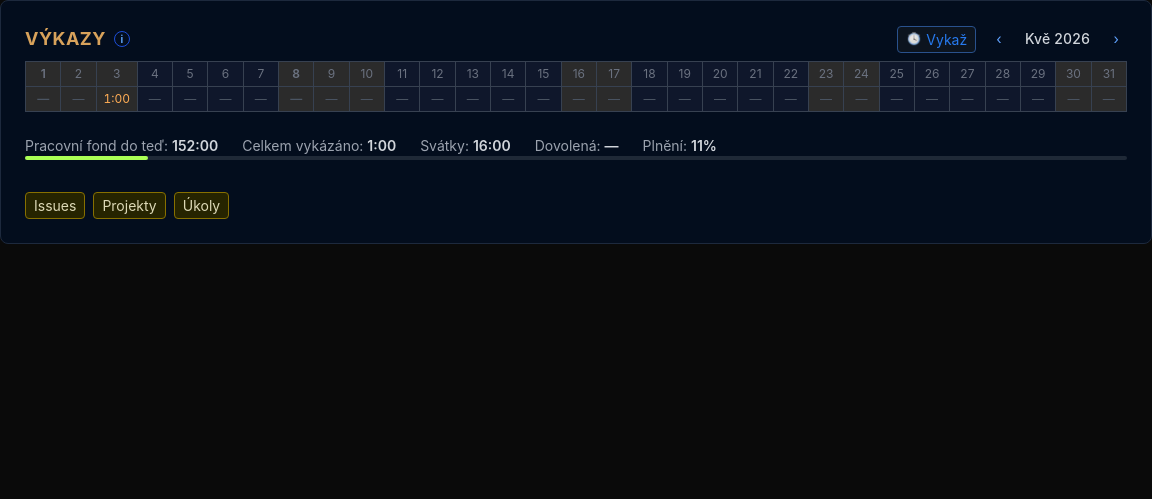
Test: WorklogsSection monthly issues › po kliknutí na projekt zobrazí jeho issue řádky
The width and height of the screenshot is (1152, 499).
Click the button with aria-label "Projekty v tomto měsíci" at {"x": 130, "y": 206}, box [93,192,166,219]
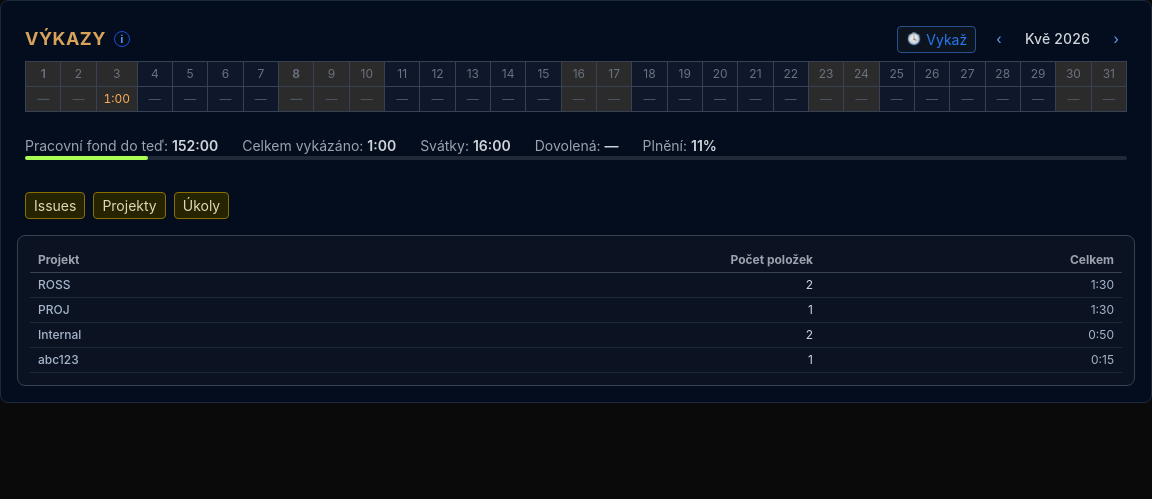
Check: the text "ROSS" is shown, box [30,272,327,298]
Click the text "ROSS" at {"x": 576, "y": 285}, box [30,272,1122,298]
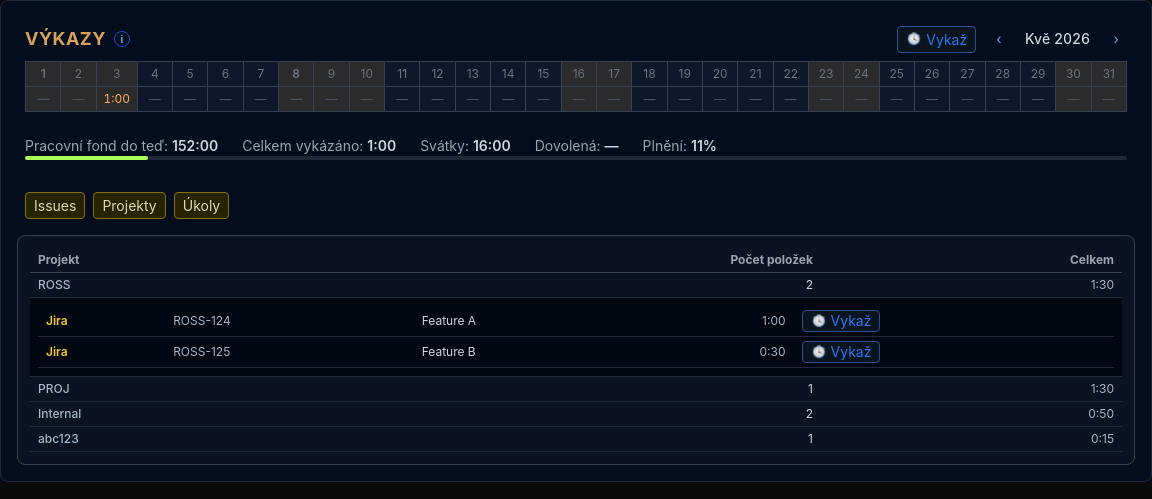
Check: the text "ROSS-124" is shown, box [165,306,414,336]
Check: the text "ROSS-125" is shown, box [165,336,414,368]
Check: the number of buttons titled "Vykaž" is 2, box [802,310,880,332]; [802,341,880,363]
